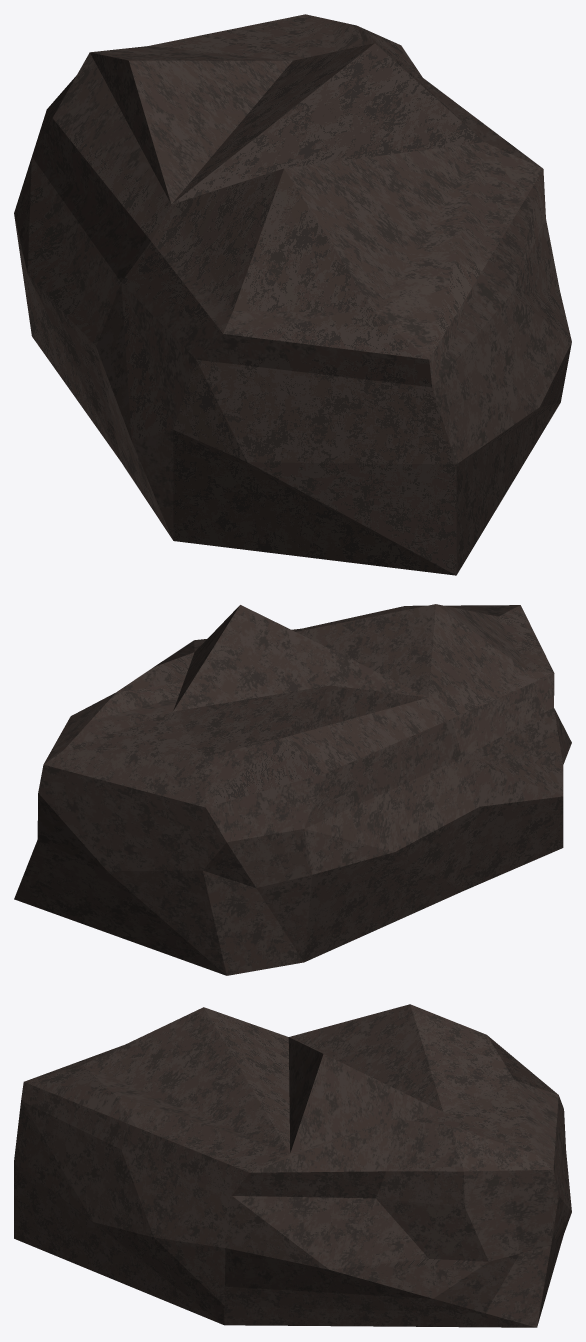
File: hill2.fbx
3 views of the same model, one above another, from view 1: azimuth 30°, elevation 25°; view 2: azimuth 150°, elevation 25°; view 3: azimuth 270°, elevation 25° (orthographic). The views are drawn at different scales.
Parts seen in each view (by area): view 1: PolyShape__3_.001; view 2: PolyShape__3_.001; view 3: PolyShape__3_.001.
Boxes of the visible parts, x1,y1,x2,y2 form: PolyShape__3_.001: (14,14,571,575); PolyShape__3_.001: (14,604,571,975); PolyShape__3_.001: (14,1004,571,1327).
Size of the model in its own units: 1928 by 1240 by 2696.
